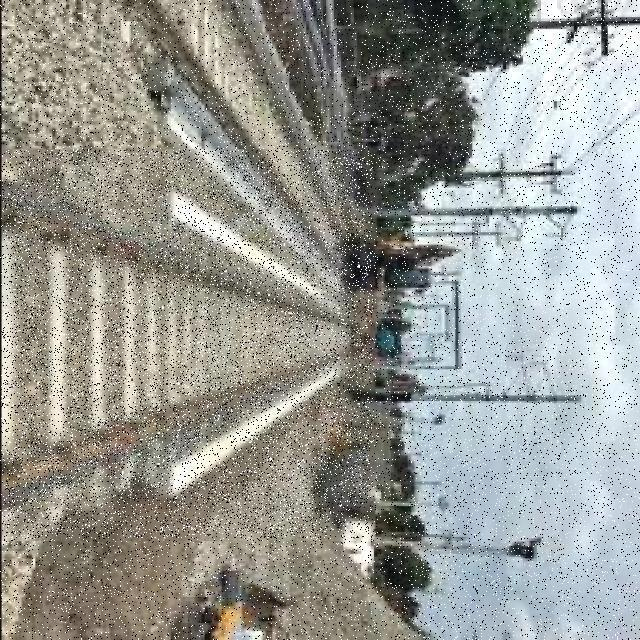rail: (4, 151, 373, 539), (85, 1, 352, 282)
